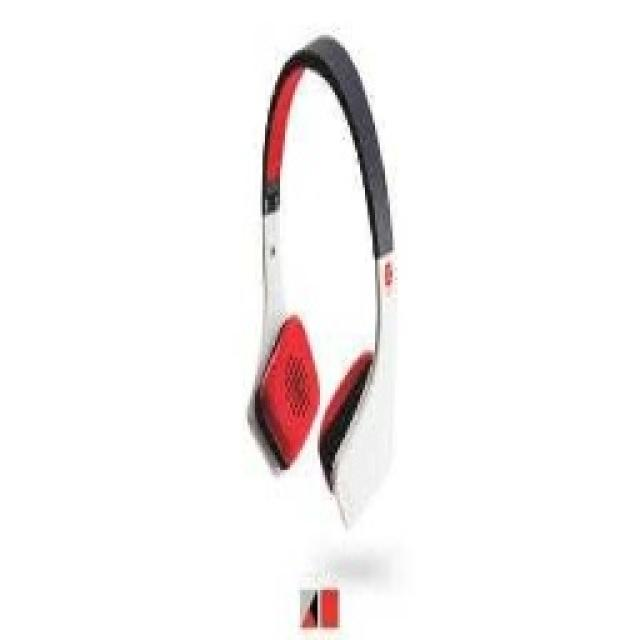headphones: (248, 32, 398, 530)
